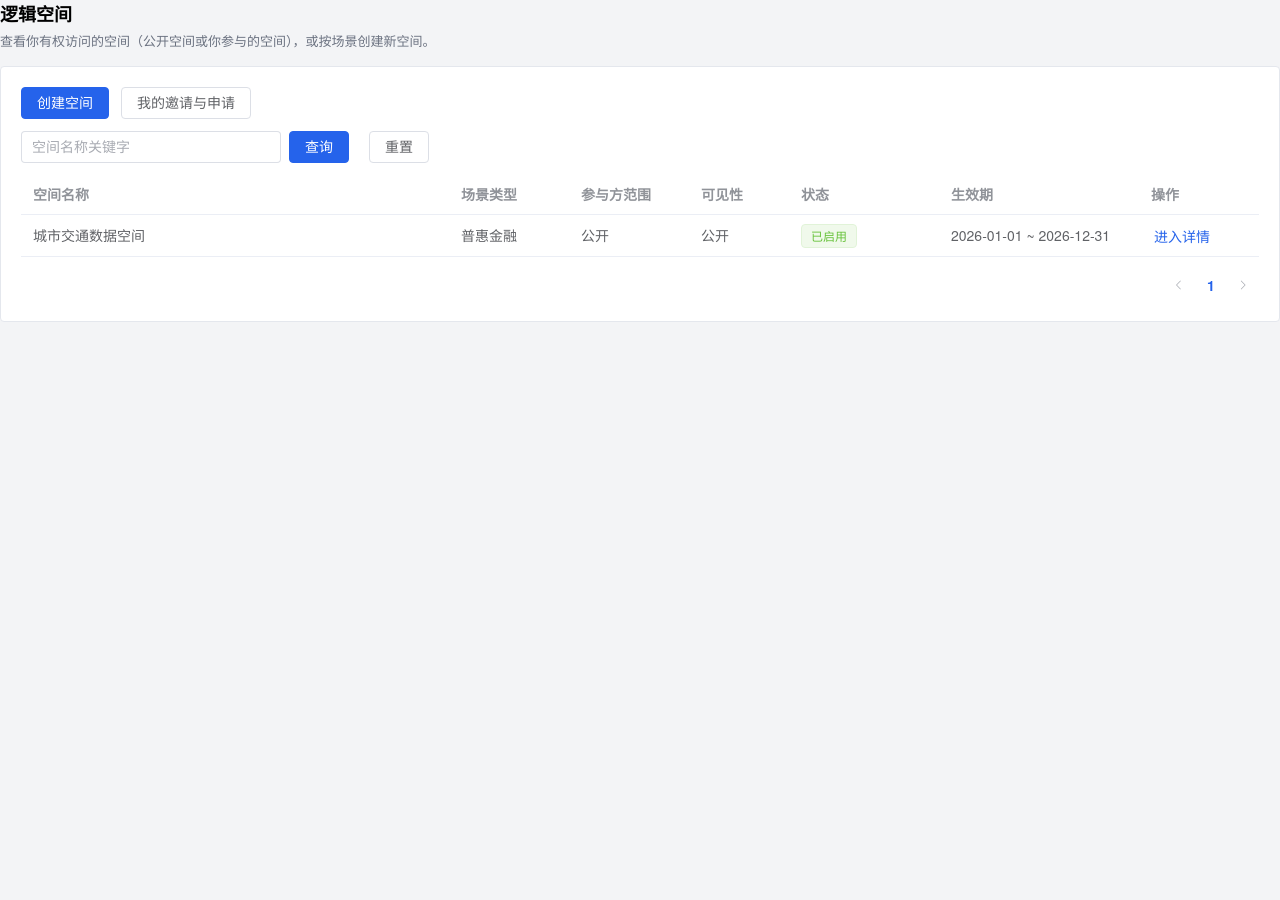
创建空间（T7~T9） › 名称留空：前置拦截（零请求）
Click the button with class "create-btn".
click(65, 103)  # box [21,87,109,119]
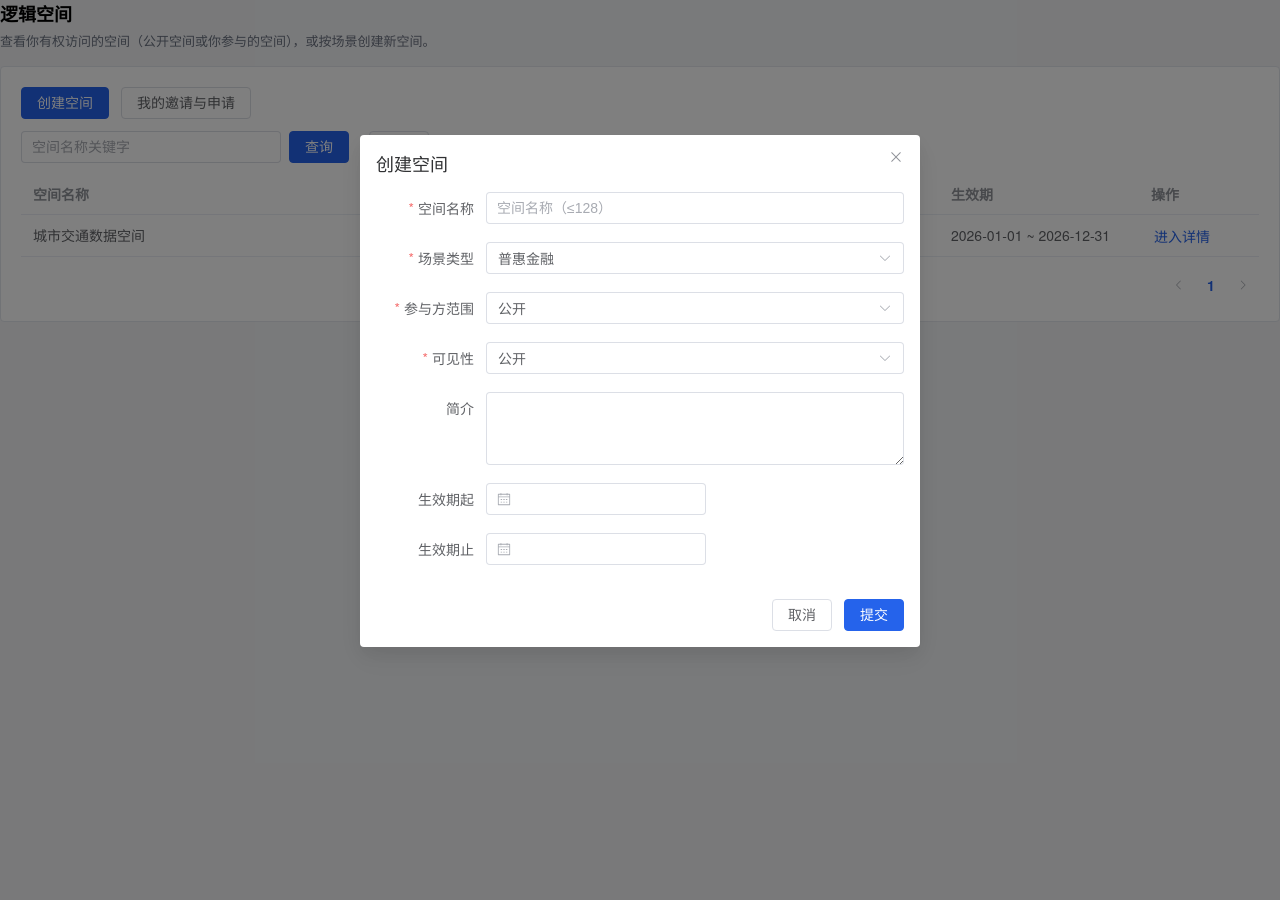
Click the button with class "create-submit".
click(874, 615)  # box [844,599,904,631]
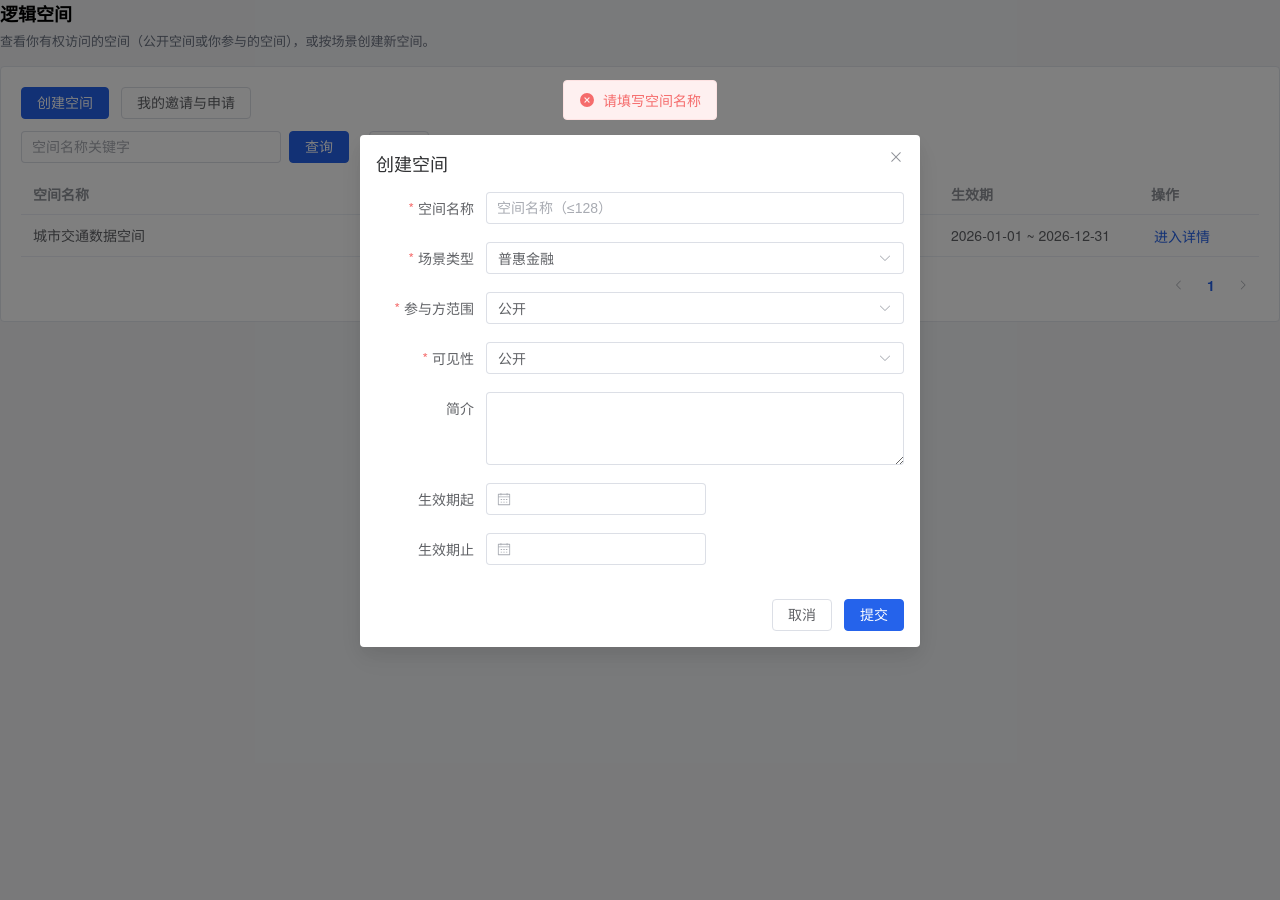
expect the text "请填写空间名称" is shown: met, box [603,93,701,107]
